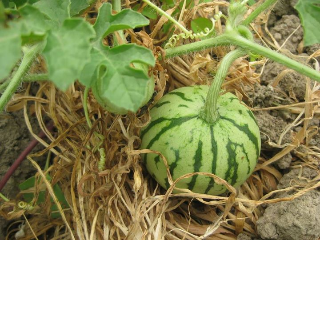dua_hau: (139, 81, 261, 198)
